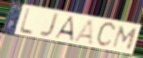A: (53, 15, 75, 43), (73, 19, 95, 46)
C: (95, 21, 118, 49)
J: (39, 13, 60, 38)
L: (18, 7, 34, 36)
M: (111, 24, 139, 51)
